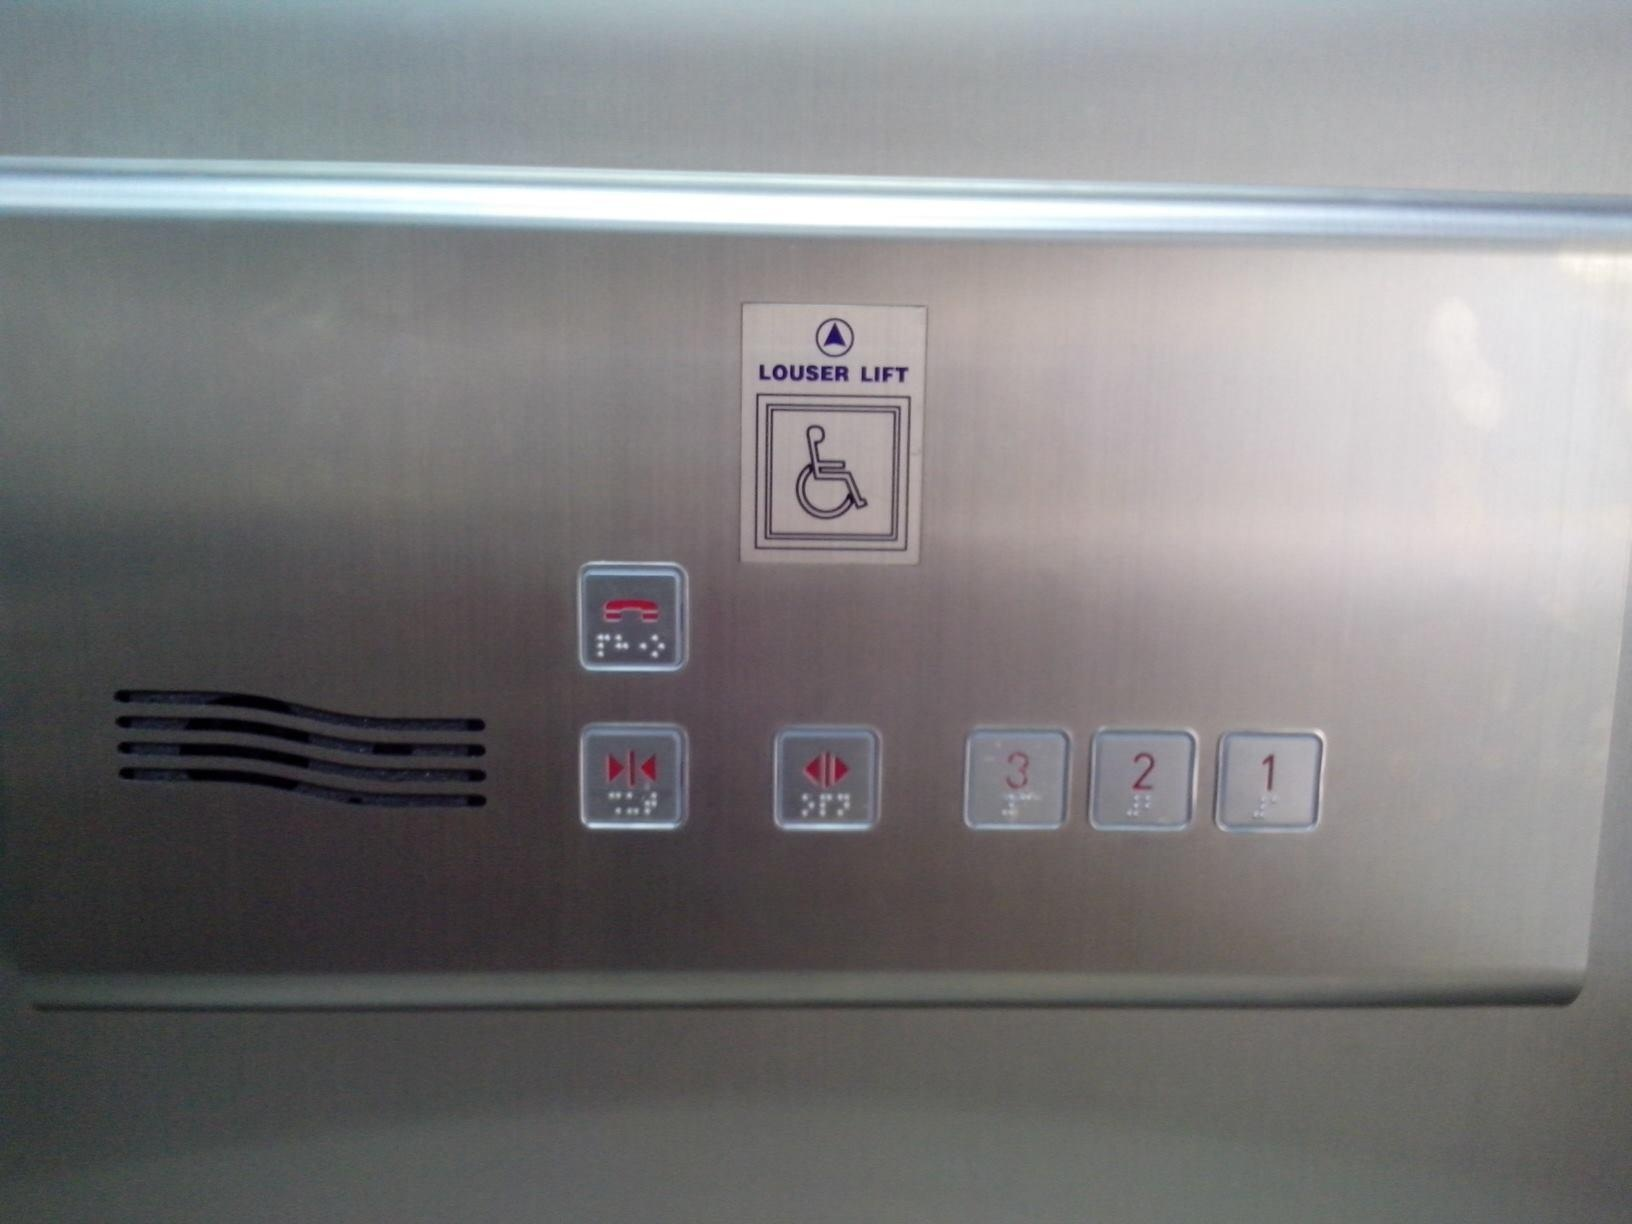1: (1214, 729, 1327, 831)
2: (1088, 724, 1199, 834)
3: (962, 726, 1076, 831)
CH: (752, 392, 914, 554)
call: (574, 561, 693, 675)
close: (576, 724, 691, 833)
open: (771, 725, 883, 834)
